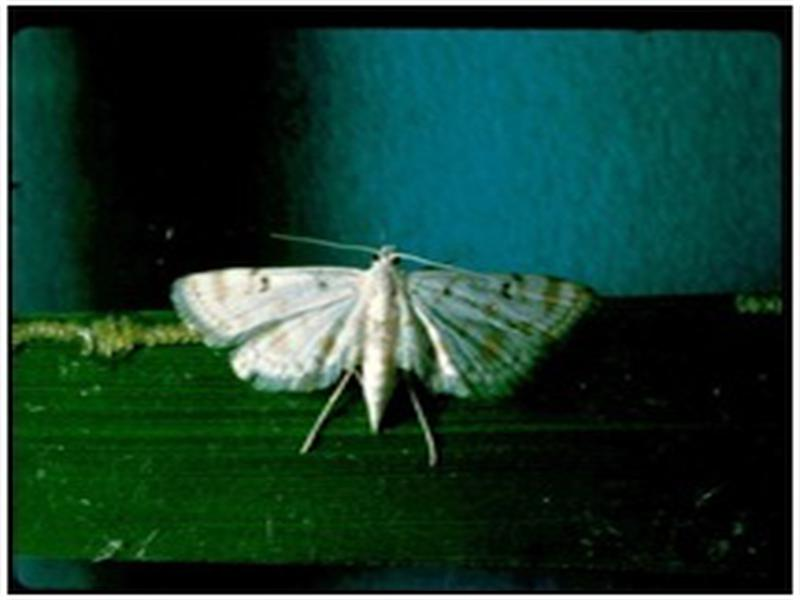Rice_case_worm: (155, 231, 609, 448)
